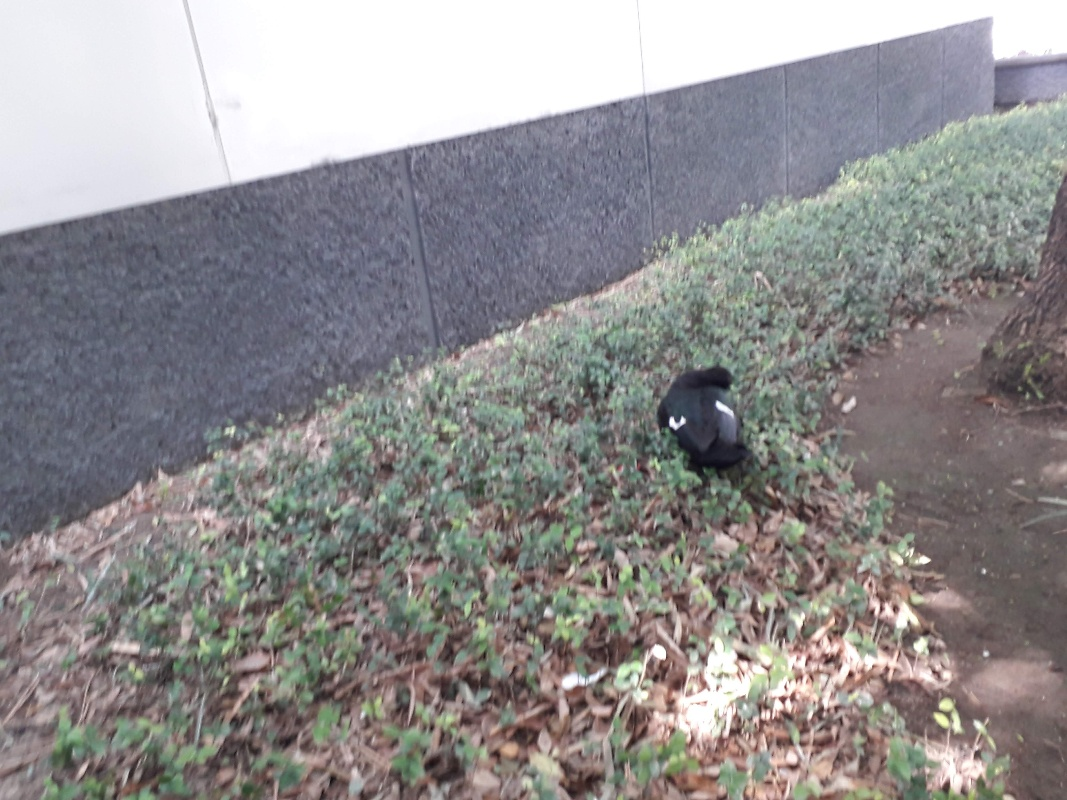pato: (651, 363, 748, 466)
